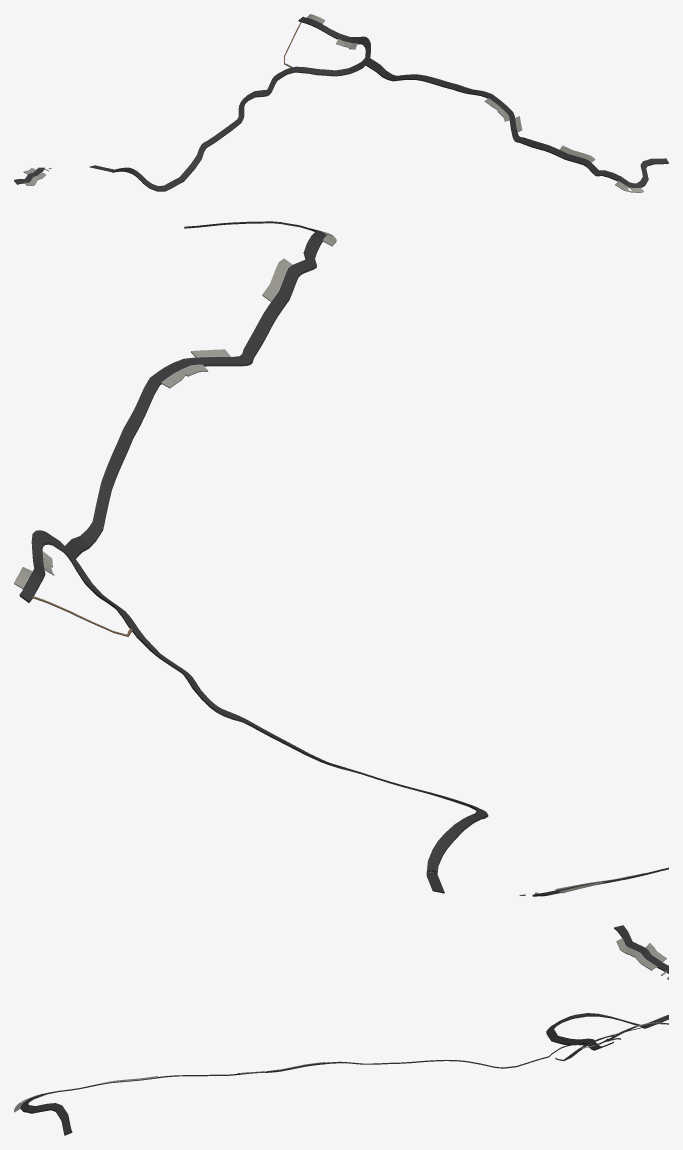
Rendered from 16-54705-29753.78cbd17a.glb.
3 renders of one model, top to bottom at view 1: azimuth 30°, elevation 25°; view 2: azimuth 150°, elevation 25°; view 3: azimuth 270°, elevation 25°, orthographic. The views are drawn at different scales.
Bounding box in the file's own units: 587 × 131 × 558.
